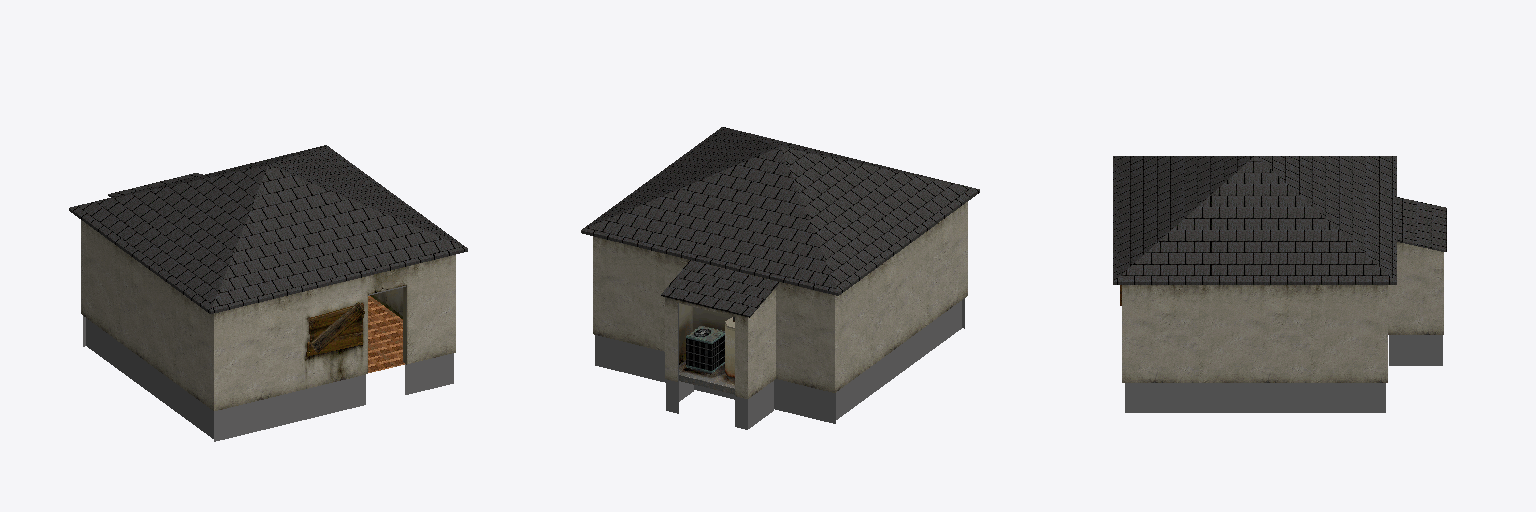
3 views of the same model, side by side, from view 1: azimuth 30°, elevation 25°; view 2: azimuth 150°, elevation 25°; view 3: azimuth 270°, elevation 25° (orthographic).
Parts seen in each view (by area): view 1: STechnicianBungalow01-00.STechnicianBungalow01-07_STechnicianBun, Plane; view 2: STechnicianBungalow01-00.STechnicianBungalow01-07_STechnicianBun; view 3: STechnicianBungalow01-00.STechnicianBungalow01-07_STechnicianBun.
Boxes of the visible parts, x1=… form: STechnicianBungalow01-00.STechnicianBungalow01-07_STechnicianBun: x1=69, y1=145, x2=467, y2=441; Plane: x1=368, y1=296, x2=404, y2=372; STechnicianBungalow01-00.STechnicianBungalow01-07_STechnicianBun: x1=581, y1=127, x2=979, y2=429; STechnicianBungalow01-00.STechnicianBungalow01-07_STechnicianBun: x1=1113, y1=156, x2=1446, y2=412.
Bounding box in the file's own units: 1.79 × 1.33 × 2.
36 materials, 36 textured.